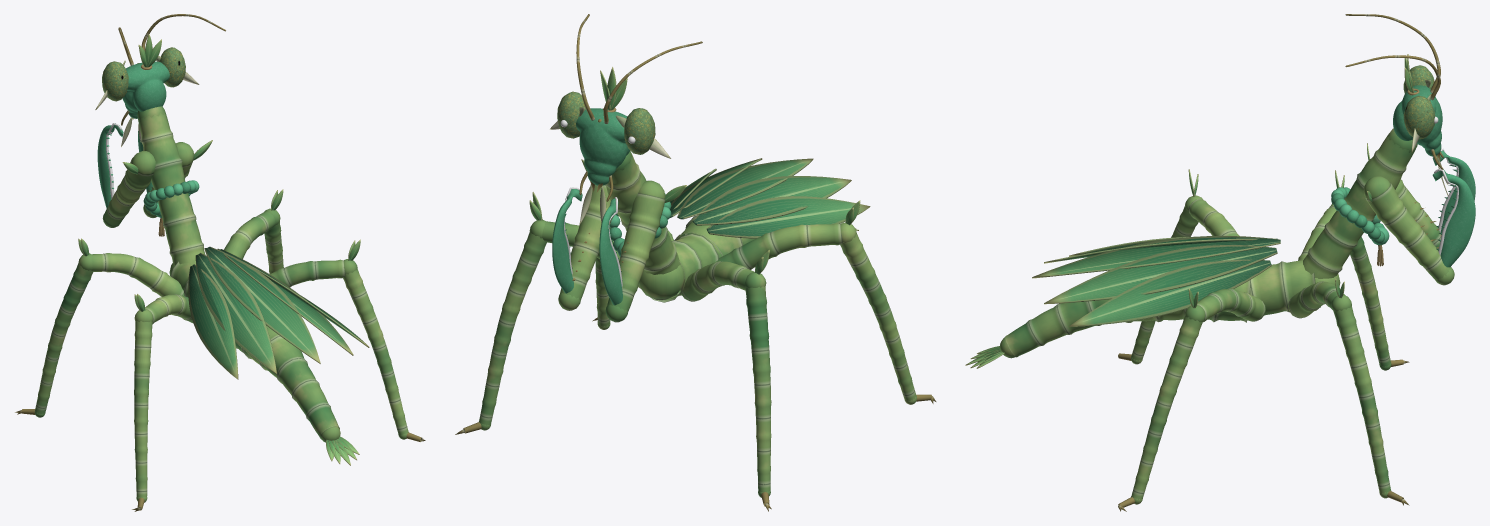
Rendered from MantisSage.fbx.
3 views of the same model, side by side, from view 1: azimuth 30°, elevation 25°; view 2: azimuth 150°, elevation 25°; view 3: azimuth 270°, elevation 25° (orthographic). The views are drawn at different scales.
Parts seen in each view (by area): view 1: MantisSage_Mantle, MantisSage_Neck, MantisSage_Head, MantisSage_Body, MantisSage_HindLeftLower, MantisSage_HindRightLower, MantisSage_MidLeftLower, MantisSage_MidLeftUpper, MantisSage_LeftArmUpper, MantisSage_HindRightUpper, MantisSage_MidRightUpper, MantisSage_HindLeftUpper (+3 smaller); view 2: MantisSage_Mantle, MantisSage_Head, MantisSage_LeftArmUpper, MantisSage_MidLeftLower, MantisSage_MidRightLower, MantisSage_Body, MantisSage_Neck, MantisSage_HindLeftLower, MantisSage_HindLeftUpper, MantisSage_RightArmUpper, MantisSage_MidLeftUpper, MantisSage_LeftArmBlade (+3 smaller); view 3: MantisSage_Mantle, MantisSage_Body, MantisSage_Neck, MantisSage_Head, MantisSage_RightArmUpper, MantisSage_MidRightLower, MantisSage_HindRightLower, MantisSage_MidLeftLower, MantisSage_RightArmBlade, MantisSage_HindRightUpper, MantisSage_MidRightUpper, MantisSage_HindLeftUpper (+4 smaller).
Part boxes in pixels (x1=…): MantisSage_Mantle: x1=188, y1=246, x2=369, y2=379; MantisSage_Neck: x1=137, y1=106, x2=205, y2=265; MantisSage_Head: x1=95, y1=14, x2=225, y2=146; MantisSage_Body: x1=169, y1=260, x2=359, y2=465; MantisSage_HindLeftLower: x1=132, y1=320, x2=152, y2=511; MantisSage_HindRightLower: x1=343, y1=268, x2=425, y2=441; MantisSage_MidLeftLower: x1=15, y1=263, x2=93, y2=417; MantisSage_MidLeftUpper: x1=78, y1=238, x2=184, y2=296; MantisSage_LeftArmUpper: x1=102, y1=151, x2=155, y2=227; MantisSage_HindRightUpper: x1=270, y1=239, x2=360, y2=287; MantisSage_MidRightUpper: x1=224, y1=189, x2=283, y2=259; MantisSage_HindLeftUpper: x1=134, y1=294, x2=193, y2=324; MantisSage_Mantle: x1=670, y1=158, x2=870, y2=238; MantisSage_Head: x1=550, y1=14, x2=702, y2=224; MantisSage_LeftArmUpper: x1=605, y1=180, x2=686, y2=322; MantisSage_MidLeftLower: x1=745, y1=286, x2=771, y2=511; MantisSage_MidRightLower: x1=455, y1=231, x2=546, y2=434; MantisSage_Body: x1=638, y1=216, x2=858, y2=302; MantisSage_Neck: x1=606, y1=151, x2=680, y2=274; MantisSage_HindLeftLower: x1=840, y1=234, x2=936, y2=404; MantisSage_HindLeftUpper: x1=716, y1=200, x2=860, y2=286; MantisSage_RightArmUpper: x1=558, y1=159, x2=613, y2=310; MantisSage_MidLeftUpper: x1=680, y1=250, x2=769, y2=301; MantisSage_LeftArmBlade: x1=599, y1=198, x2=622, y2=305; MantisSage_Mantle: x1=1032, y1=236, x2=1280, y2=326; MantisSage_Body: x1=965, y1=260, x2=1340, y2=368; MantisSage_Neck: x1=1303, y1=128, x2=1417, y2=278; MantisSage_Head: x1=1345, y1=14, x2=1447, y2=195; MantisSage_RightArmUpper: x1=1363, y1=176, x2=1454, y2=285; MantisSage_MidRightLower: x1=1333, y1=306, x2=1409, y2=505; MantisSage_HindRightLower: x1=1118, y1=316, x2=1202, y2=511; MantisSage_MidLeftLower: x1=1350, y1=236, x2=1409, y2=370; MantisSage_RightArmBlade: x1=1432, y1=169, x2=1475, y2=267; MantisSage_HindRightUpper: x1=1185, y1=288, x2=1265, y2=322; MantisSage_MidRightUpper: x1=1288, y1=278, x2=1351, y2=318; MantisSage_HindLeftUpper: x1=1185, y1=169, x2=1239, y2=236.
Size of the model in its own units: 30.3 by 36.02 by 41.87.
18 materials, 16 textured.
